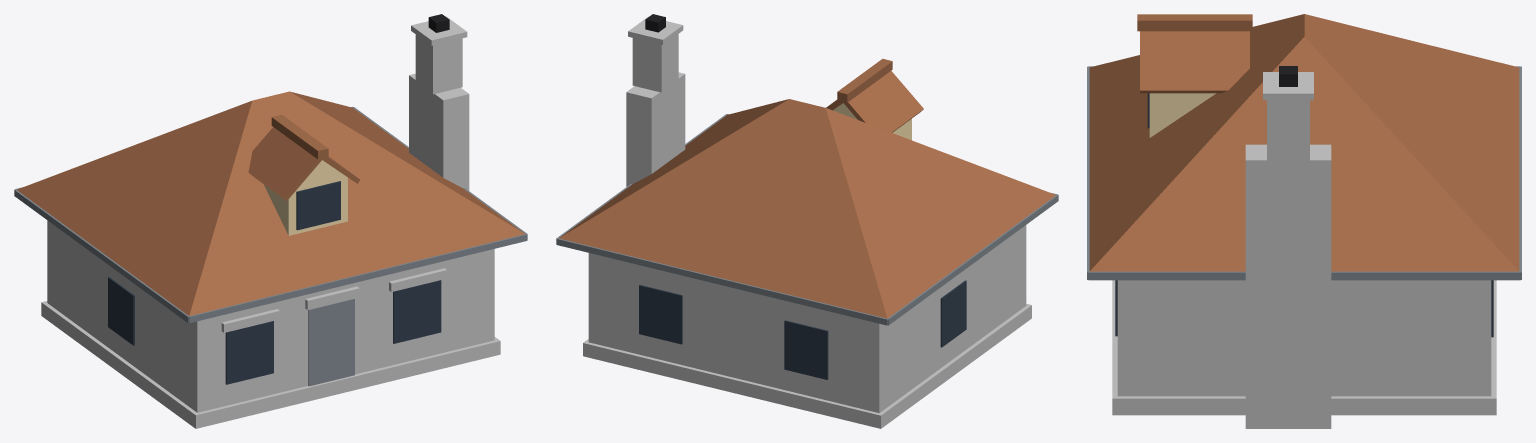
The model's file is generated.stone_cottage.gltf.
3 renders of one model, left to right at view 1: azimuth 30°, elevation 25°; view 2: azimuth 150°, elevation 25°; view 3: azimuth 270°, elevation 25°, orthographic. The views are drawn at different scales.
Visible parts, largest first — view 1: stone_cottage; view 2: stone_cottage; view 3: stone_cottage.
Part boxes in pixels (x1,y1,x2,y2): stone_cottage: (14, 14, 527, 428); stone_cottage: (556, 14, 1058, 428); stone_cottage: (1087, 14, 1521, 428).
Bounding box in the file's own units: 9.4 × 7.25 × 8.14.
